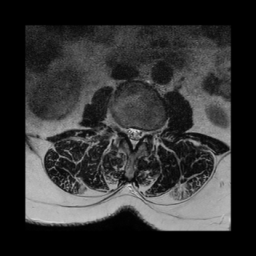CCS_normal: (130, 123, 136, 154)
LFS_stenosis: (143, 124, 149, 140)
LLS_normal: (137, 125, 143, 145)
RFS_stenosis: (119, 121, 125, 139)
RLS_normal: (125, 123, 130, 143)
